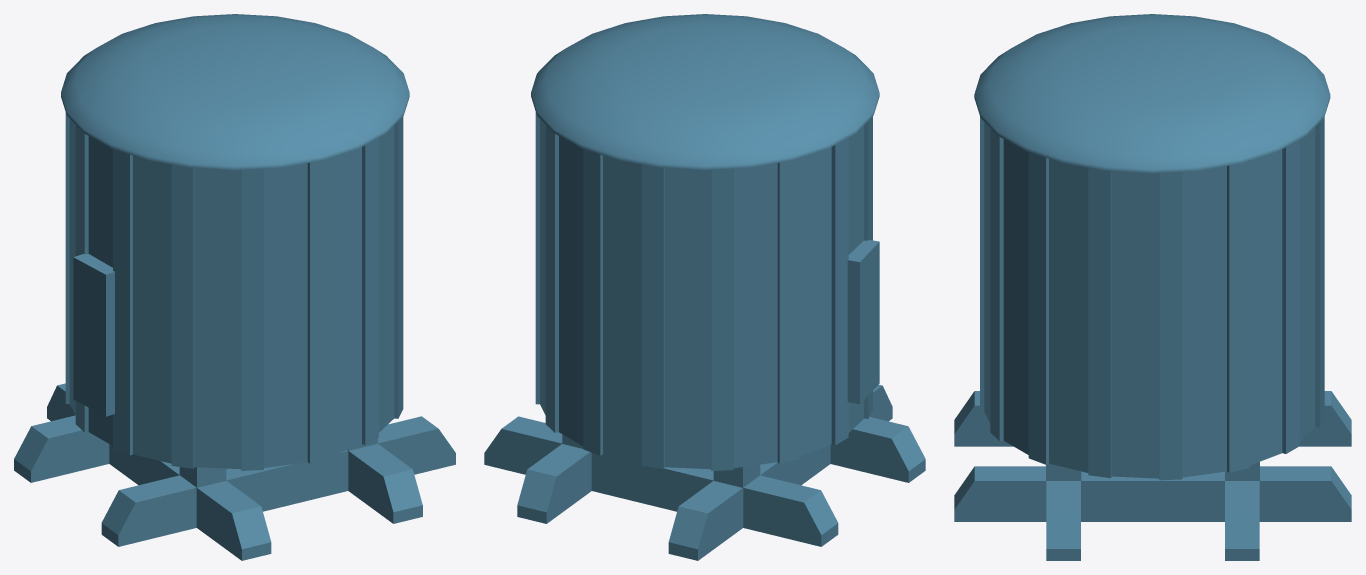
The model's file is GJ_Decor_Tank_01.fbx.
The picture shows the model from 3 angles, left to right: view 1: azimuth 30°, elevation 25°; view 2: azimuth 150°, elevation 25°; view 3: azimuth 270°, elevation 25°; orthographic projection. The views are drawn at different scales.
Visible parts, largest first — view 1: GJ_Decor_Tank_01; view 2: GJ_Decor_Tank_01; view 3: GJ_Decor_Tank_01.
Part boxes in pixels (bbox=[...]): GJ_Decor_Tank_01: bbox=[14, 14, 455, 560]; GJ_Decor_Tank_01: bbox=[484, 14, 925, 560]; GJ_Decor_Tank_01: bbox=[954, 14, 1351, 560].
Size of the model in its own units: 28.62 by 33.03 by 28.62.
